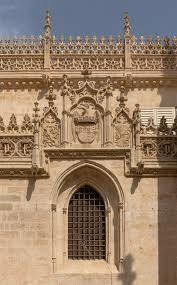arco-apuntado: (46, 158, 130, 213)
